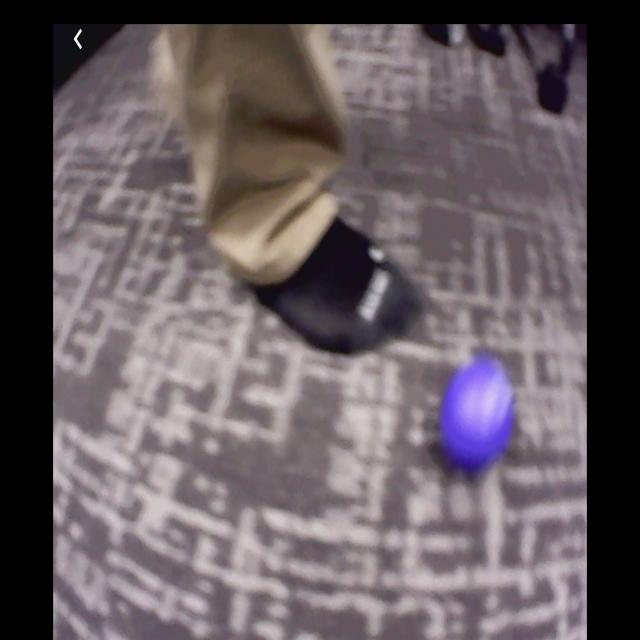ball: (440, 358, 514, 467)
